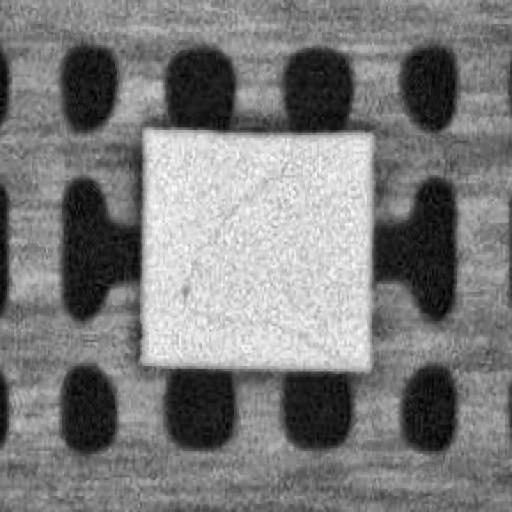DIE_CRACK: (179, 167, 296, 295)
